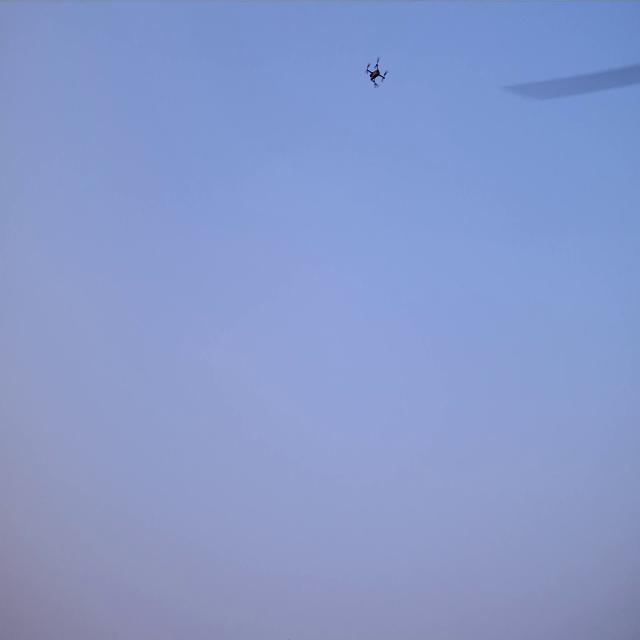UAV: (366, 60, 386, 88)
